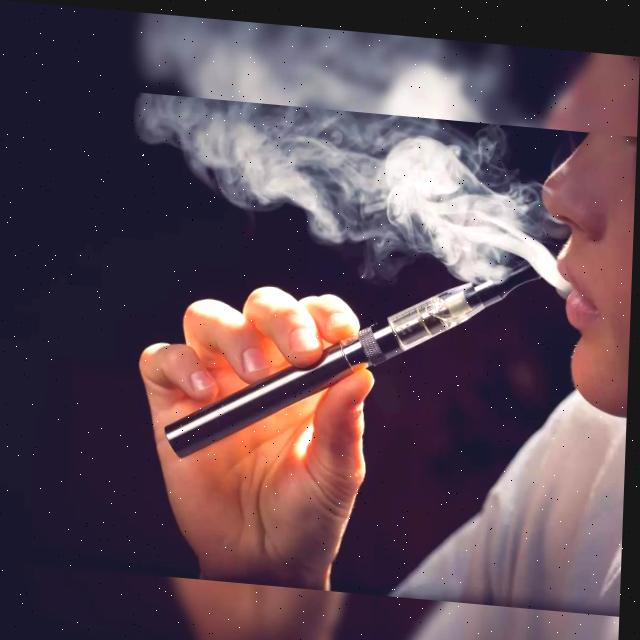vape: (167, 223, 542, 480)
